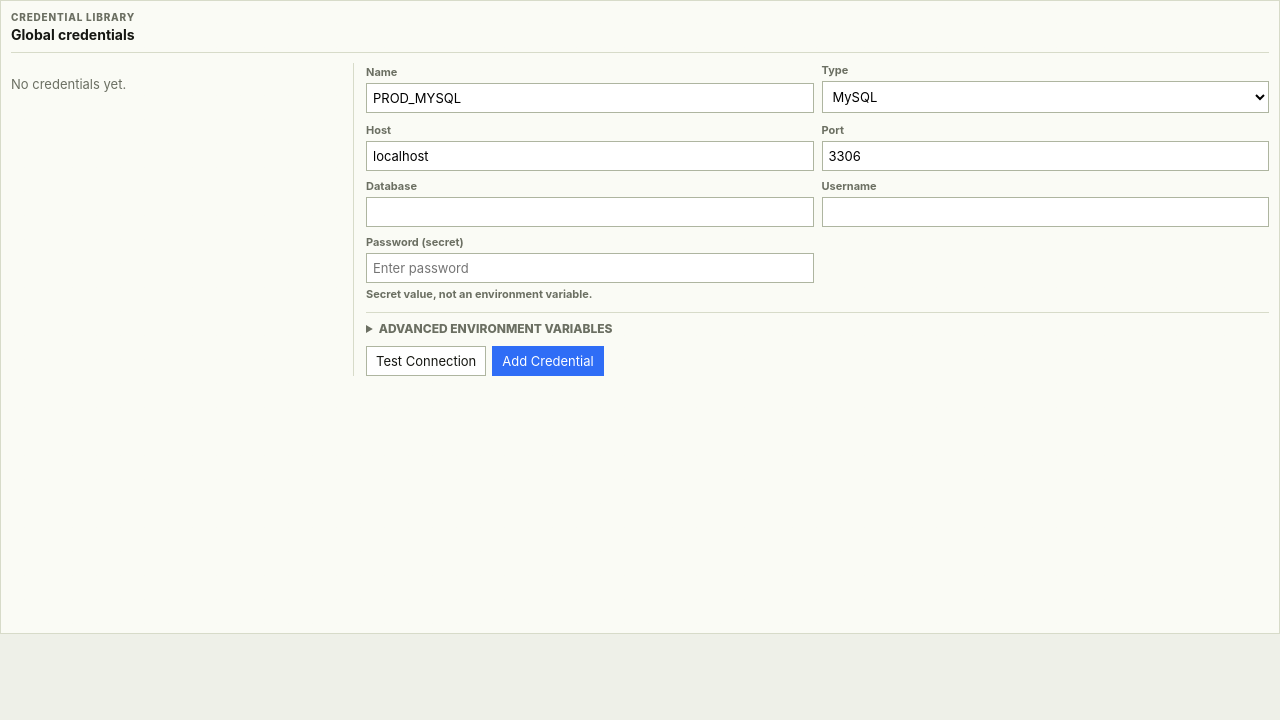
Test: App › tests typed MySQL credentials from the credential page without placeholder variables
This screenshot has width=1280, height=720.
Replace the text in the field labelled "Host" with "db.internal" at (590, 156), box top-left (366, 141), bottom-right (814, 171)
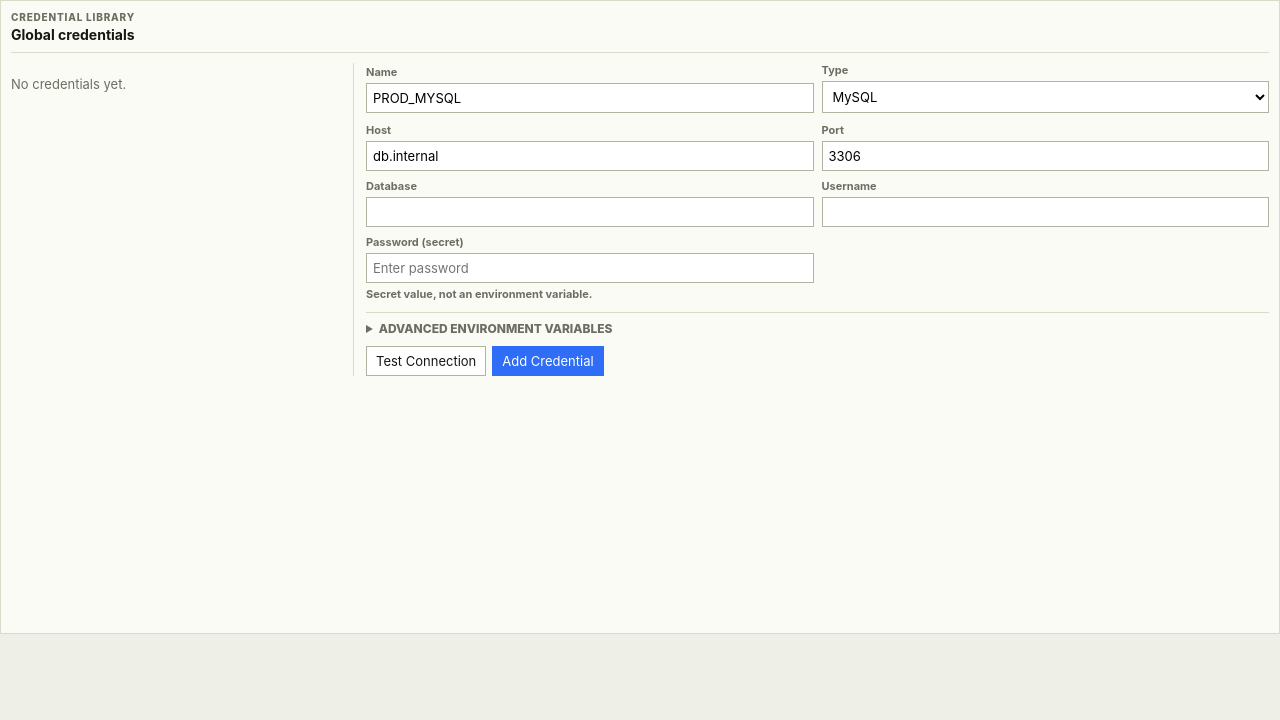
Replace the text in the field labelled "Port" with "3307" at (1045, 156), box top-left (822, 141), bottom-right (1269, 171)
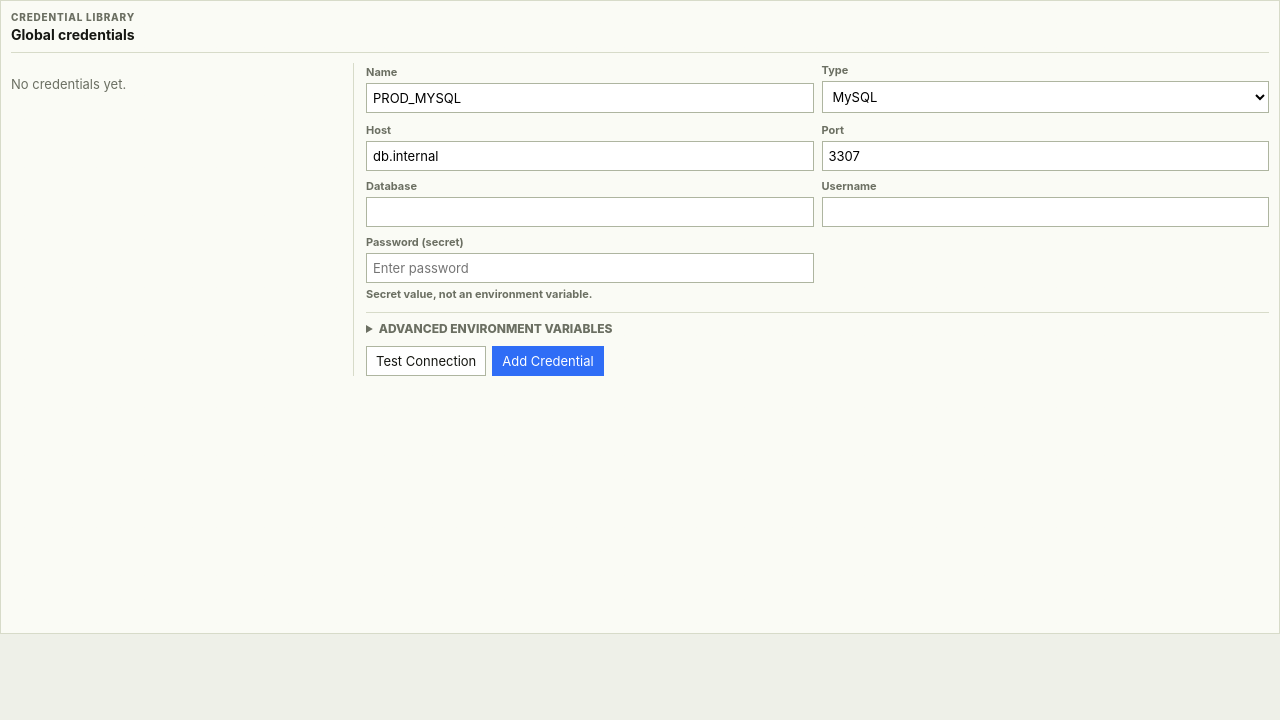
Type "orders" into the field labelled "Database".
click(590, 212); type("orders")  # box top-left (366, 197), bottom-right (814, 227)
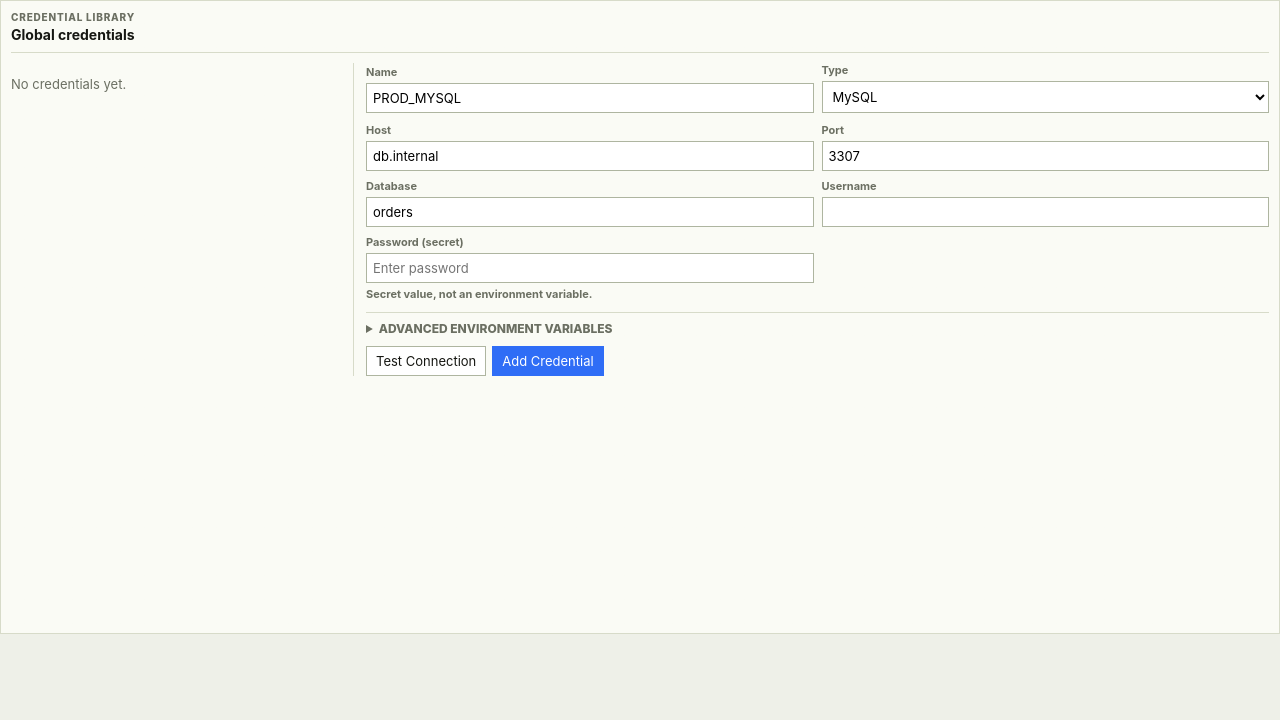
Type "sync" into the field labelled "Username".
click(1045, 212); type("sync")  # box top-left (822, 197), bottom-right (1269, 227)
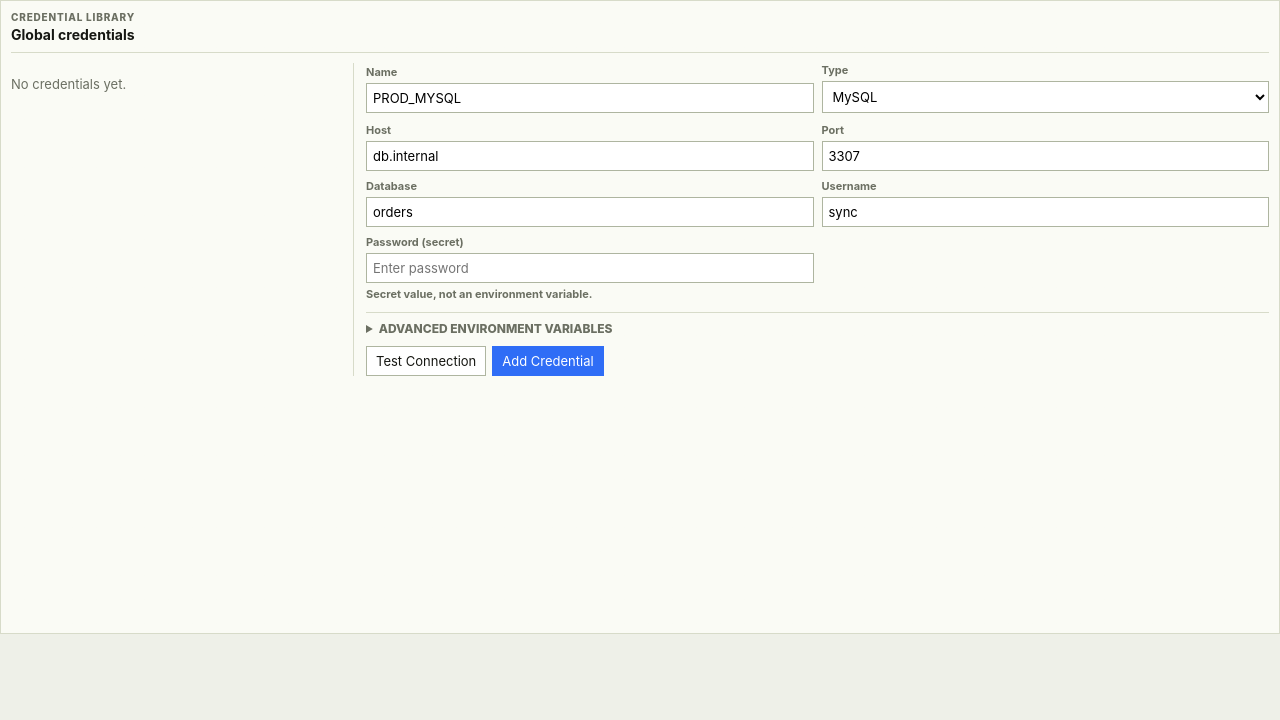
Type "secret" into the password field labelled "Password (secret) Secret value, not an environment variable.".
click(590, 268); type("secret")  # box top-left (366, 253), bottom-right (814, 283)
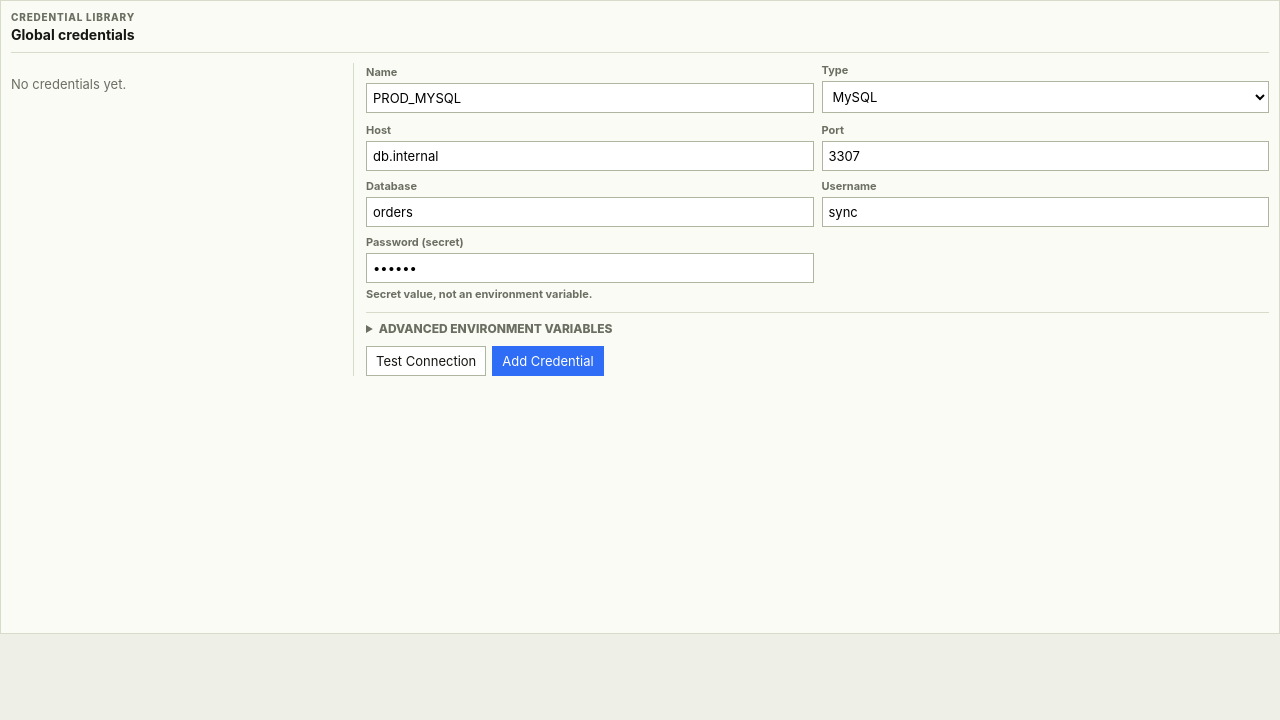
Click the button "Test Connection".
click(426, 361)  # box top-left (366, 346), bottom-right (486, 376)
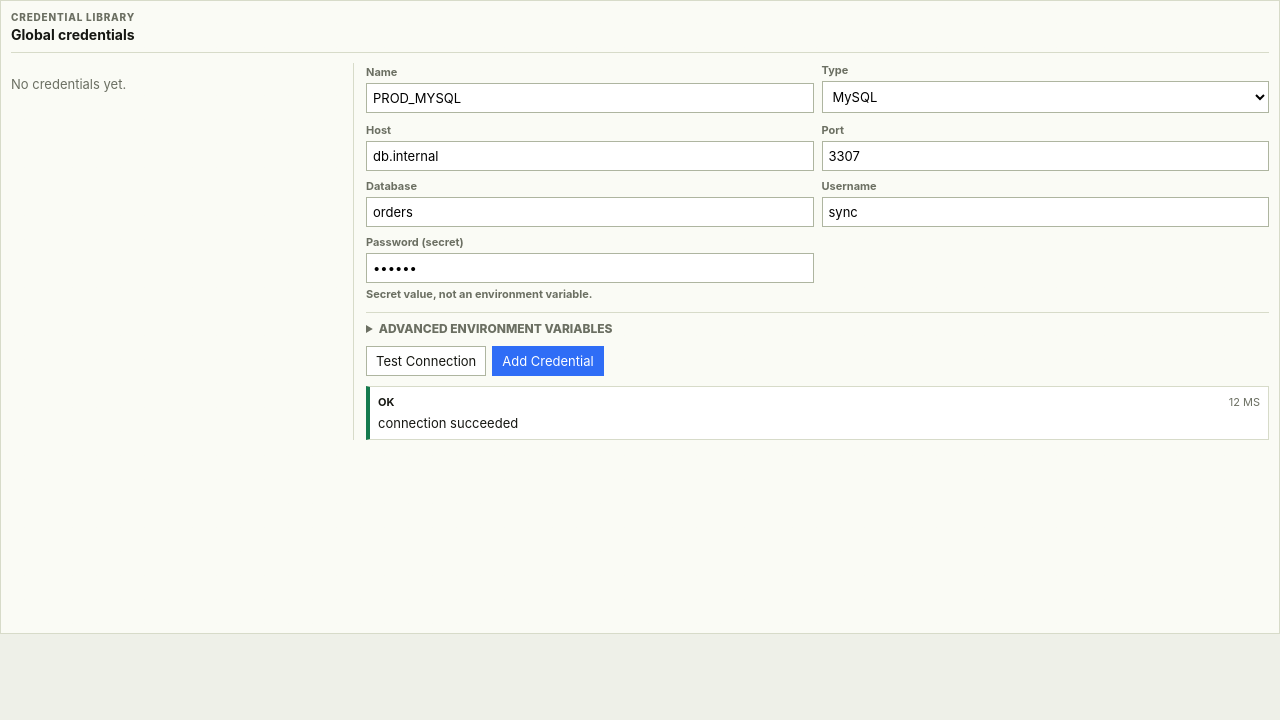
expect the text "connection succeeded" is shown: met, box top-left (378, 415), bottom-right (518, 431)
